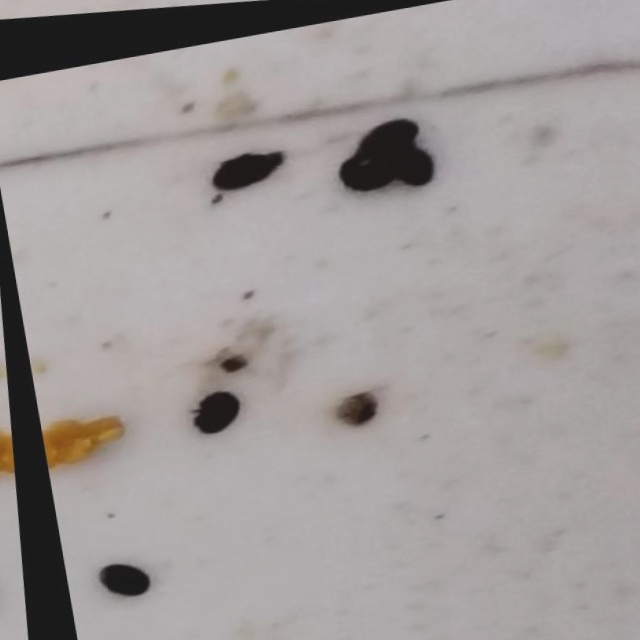varroa: (205, 144, 289, 191), (349, 110, 428, 157), (330, 148, 396, 198), (183, 385, 242, 436), (91, 552, 147, 599), (385, 142, 437, 187)
